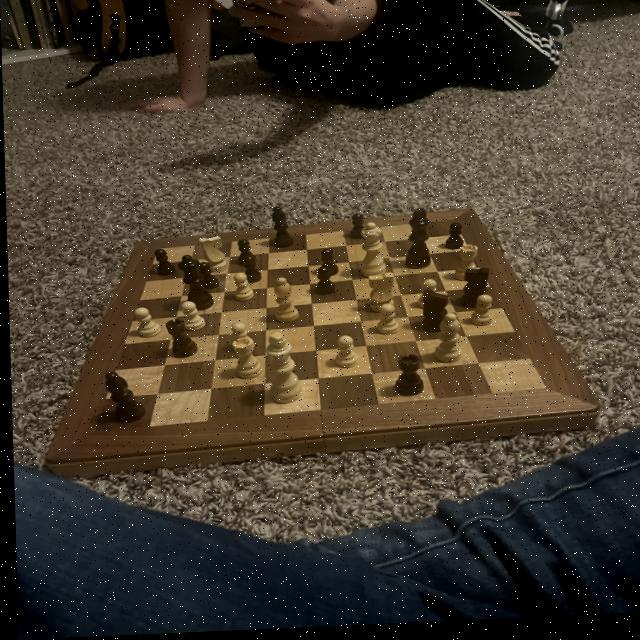bishop: (99, 369, 146, 428), (266, 207, 296, 254)
black-bishop: (400, 209, 433, 275)
black-king: (414, 291, 448, 337), (455, 269, 490, 310)
black-knight: (314, 249, 340, 280), (150, 248, 176, 279), (236, 256, 261, 288), (195, 263, 220, 293), (310, 268, 333, 300), (441, 225, 463, 256), (347, 215, 366, 245), (234, 239, 254, 267)
black-pawn: (175, 254, 213, 314)
black-queen: (387, 355, 424, 403), (163, 317, 198, 363)
black-rook: (427, 314, 464, 369), (269, 278, 298, 324)
white-bishop: (260, 332, 304, 410)
white-king: (361, 274, 396, 318), (196, 237, 229, 274)
white-knight: (327, 336, 360, 375), (131, 307, 161, 343), (228, 272, 256, 305), (466, 297, 493, 331), (176, 301, 204, 333), (372, 305, 398, 339), (227, 321, 253, 351), (413, 282, 437, 314)
white-pawn: (350, 222, 389, 284)
white-queen: (228, 338, 261, 383), (448, 246, 478, 286)
